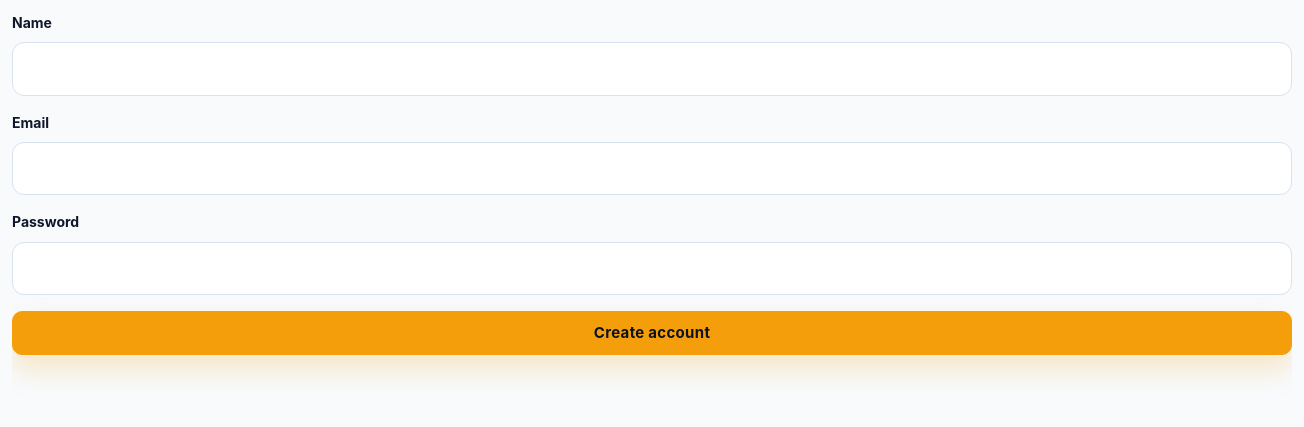
Test case: shows an alert when sign-up fails
This screenshot has width=1304, height=427.
In the field labelled "Name": [652, 69] box [12,42,1292,96], type "Person"
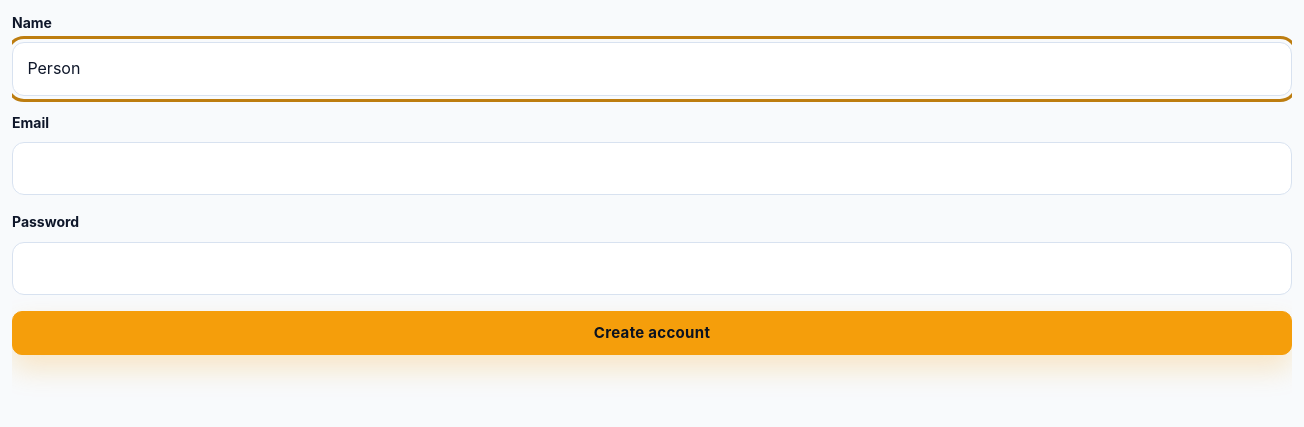
In the field labelled "Email": [652, 169] box [12,142,1292,195], type "person@example.com"
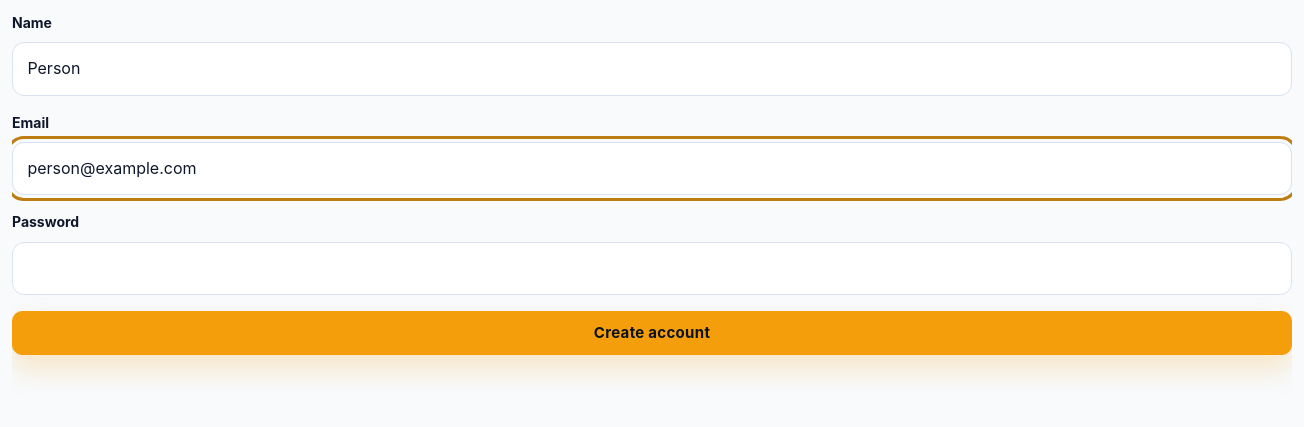
In the password field labelled "Password": [652, 268] box [12,242,1292,295], type "correct horse battery staple"
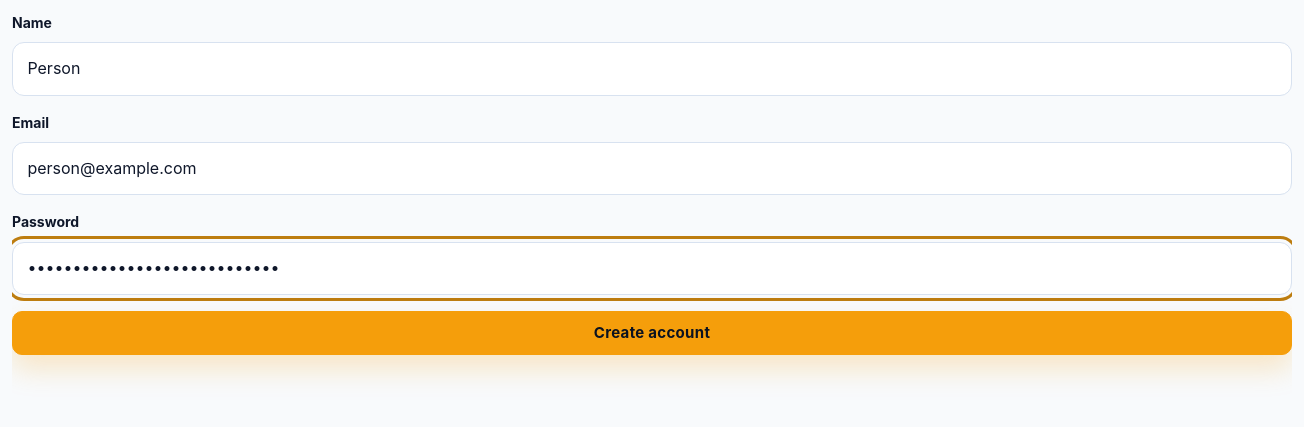
Click the button "Create account": [652, 333] box [12,311,1292,355]
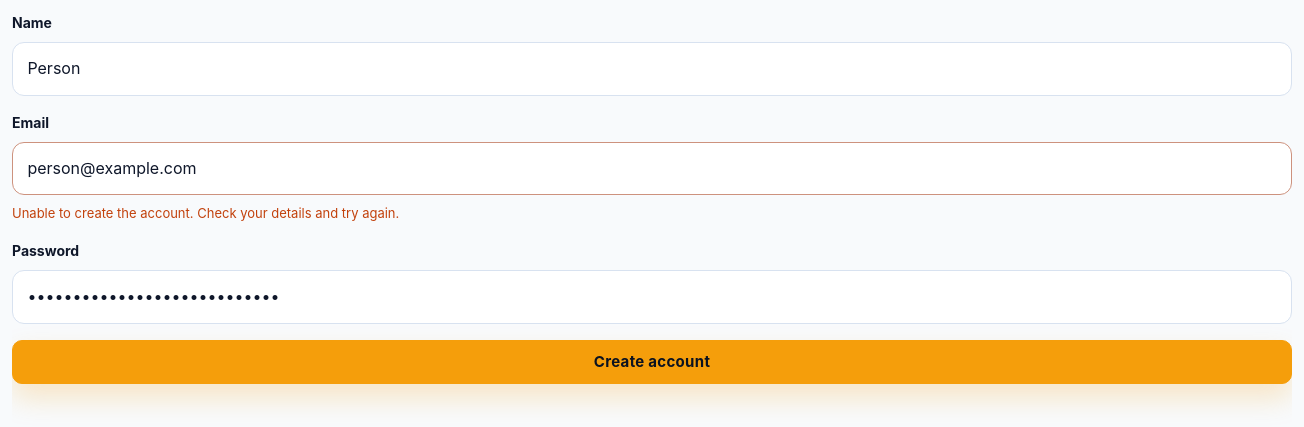
Result: the message shows "Unable to create the account" at [12,205,399,221]
